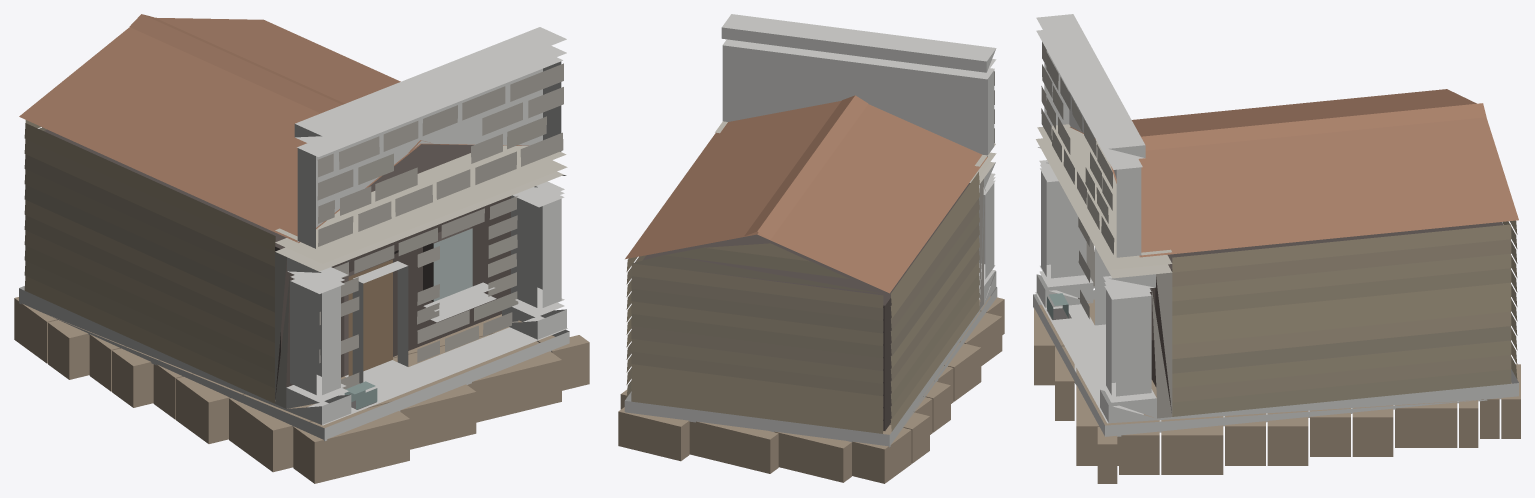
The model's file is house_0.lod.glb.
3 renders of one model, left to right at view 1: azimuth 30°, elevation 25°; view 2: azimuth 150°, elevation 25°; view 3: azimuth 270°, elevation 25°, orthographic. The views are drawn at different scales.
Visible parts, largest first — view 1: house_0; view 2: house_0; view 3: house_0.
Part boxes in pixels (box(x1,y1,x2,y2)): house_0: box(14, 14, 589, 483); house_0: box(618, 14, 1004, 483); house_0: box(1033, 14, 1520, 483).
Bounding box in the file's own units: 9.98 × 8.5 × 11.48.
